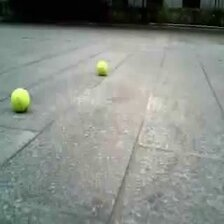tennis: (10, 89, 29, 111), (95, 60, 108, 75)
